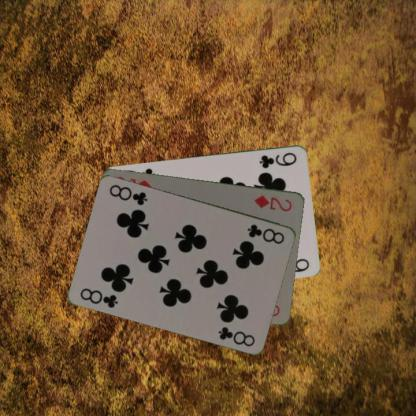2d: (250, 192, 294, 212)
8c: (245, 221, 286, 245), (78, 286, 119, 309)
9c: (257, 150, 298, 169)
